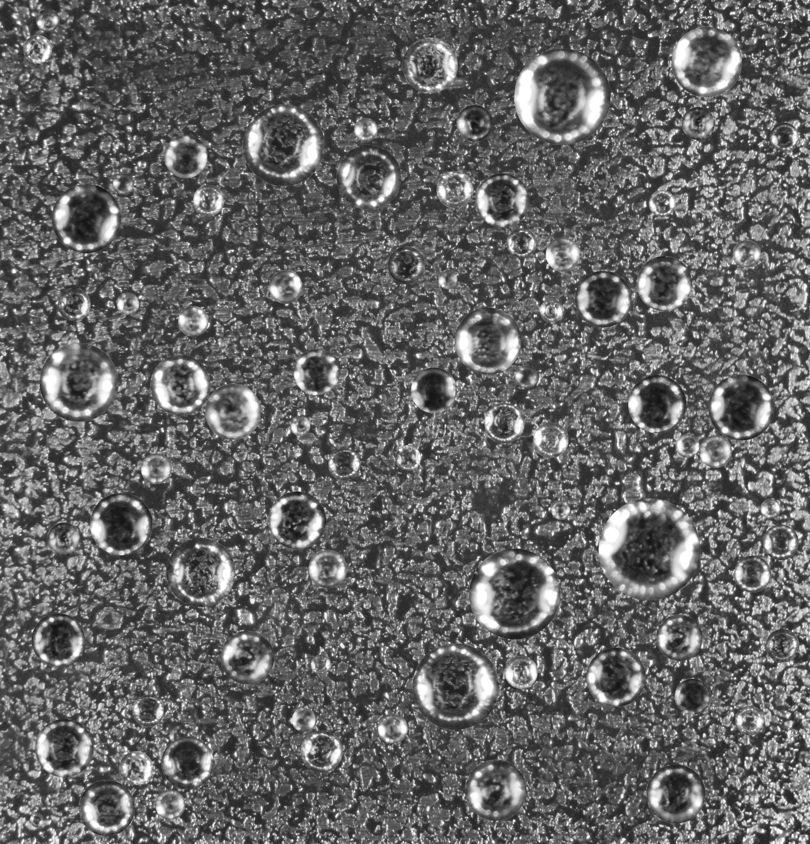Bubble: (598, 498, 700, 600), (514, 48, 610, 144), (469, 548, 560, 639), (412, 643, 498, 729), (243, 104, 324, 185), (39, 343, 118, 421), (671, 26, 742, 97), (51, 183, 121, 253), (166, 538, 235, 606), (454, 307, 521, 374), (708, 374, 774, 440), (336, 144, 401, 209), (90, 493, 152, 555), (465, 759, 526, 820), (150, 355, 210, 414), (646, 764, 705, 823), (586, 647, 645, 706), (628, 375, 686, 433), (268, 491, 326, 549), (35, 719, 93, 777), (575, 270, 631, 327), (78, 780, 134, 836), (402, 37, 457, 92), (637, 256, 692, 311), (205, 384, 260, 439), (220, 630, 274, 684), (475, 173, 529, 227), (31, 613, 84, 666), (161, 736, 213, 789), (293, 349, 339, 395), (656, 614, 702, 660), (411, 367, 456, 413), (164, 134, 207, 177), (300, 730, 342, 772), (484, 403, 524, 443), (308, 549, 346, 588), (387, 246, 425, 283), (436, 171, 473, 208), (734, 555, 771, 592), (674, 678, 710, 714), (456, 105, 492, 141), (763, 524, 798, 560), (533, 422, 568, 457), (545, 237, 579, 271), (119, 751, 152, 785), (47, 522, 80, 556), (269, 270, 302, 303), (766, 629, 799, 662), (504, 655, 537, 688), (57, 288, 90, 320), (699, 435, 731, 467), (682, 107, 714, 139), (328, 448, 360, 480), (132, 695, 163, 726), (193, 184, 224, 215), (140, 453, 171, 484), (377, 713, 407, 743), (178, 306, 208, 336), (155, 789, 185, 819), (506, 228, 536, 258), (735, 706, 764, 735), (732, 240, 761, 268), (770, 122, 798, 151), (23, 35, 51, 63), (648, 190, 675, 216), (395, 445, 420, 470), (675, 433, 699, 457), (36, 8, 59, 32), (291, 708, 315, 731), (354, 118, 377, 141), (540, 299, 563, 322), (515, 365, 537, 388), (116, 292, 138, 314), (112, 173, 133, 194), (760, 498, 780, 518), (290, 415, 310, 435), (311, 654, 331, 674), (438, 270, 457, 289), (551, 500, 570, 519), (29, 813, 43, 827)
